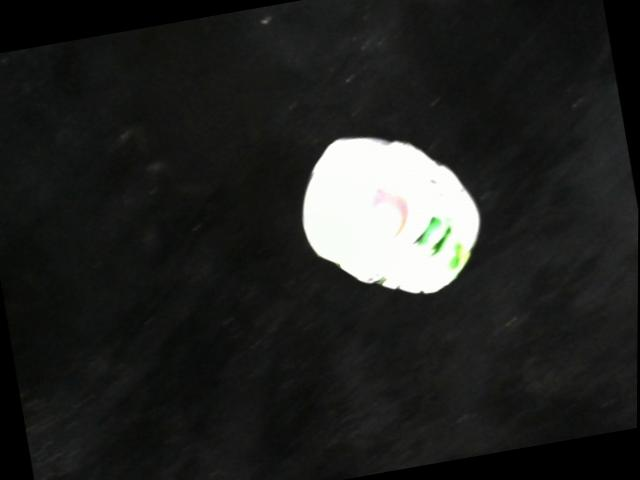can: (299, 135, 480, 300)
